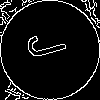J: (25, 25, 77, 62)
